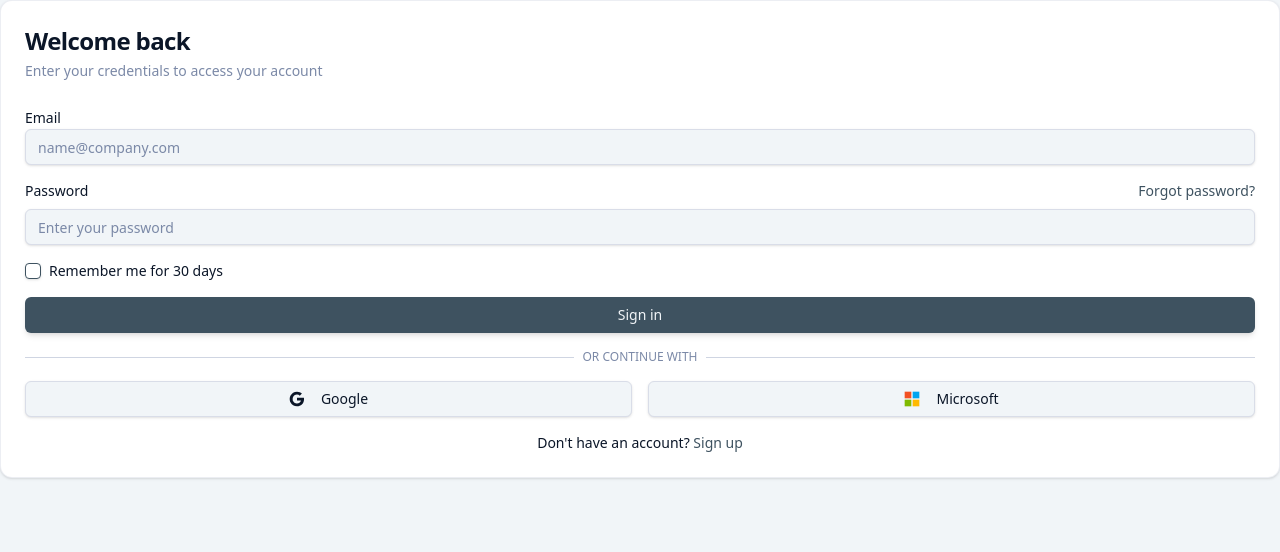
Test: LoginPage › displays validation errors for empty fields
Click the button "Sign in".
click(640, 315)  # box [25,297,1255,333]
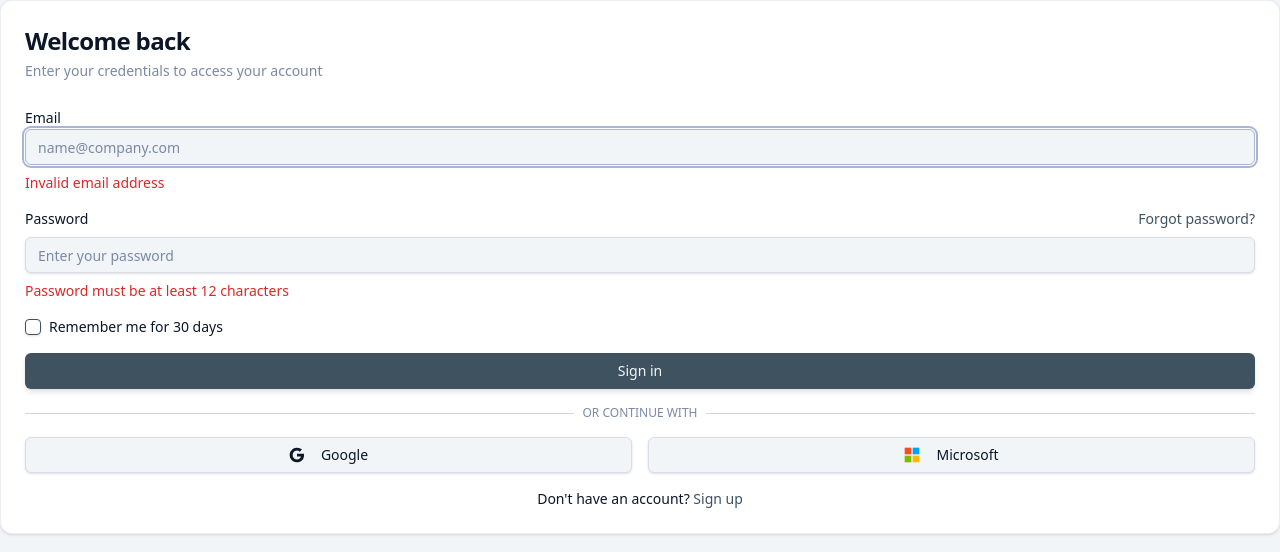
Result: the text "Invalid email address" is shown at [25,173,164,192]
